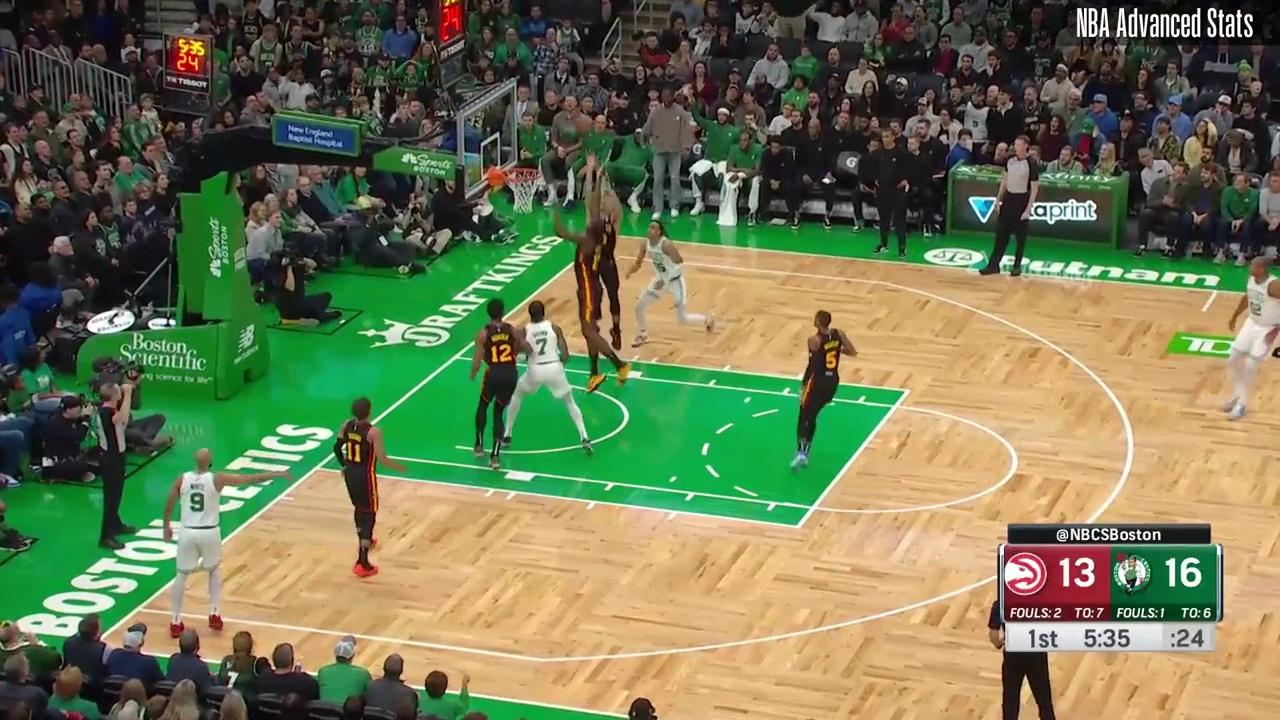3_sx: (130, 602, 148, 617)
free_adx: (897, 383, 915, 397)
free_asx: (790, 519, 805, 536)
free_bsx: (308, 461, 326, 478)
mid_dx: (1205, 284, 1225, 298)
team: (499, 300, 596, 458), (161, 446, 229, 637), (627, 222, 717, 349), (1221, 258, 1280, 423)
team1: (551, 180, 632, 391), (332, 397, 405, 579), (469, 298, 532, 471), (582, 154, 623, 351)
timer: (1080, 623, 1134, 652)
